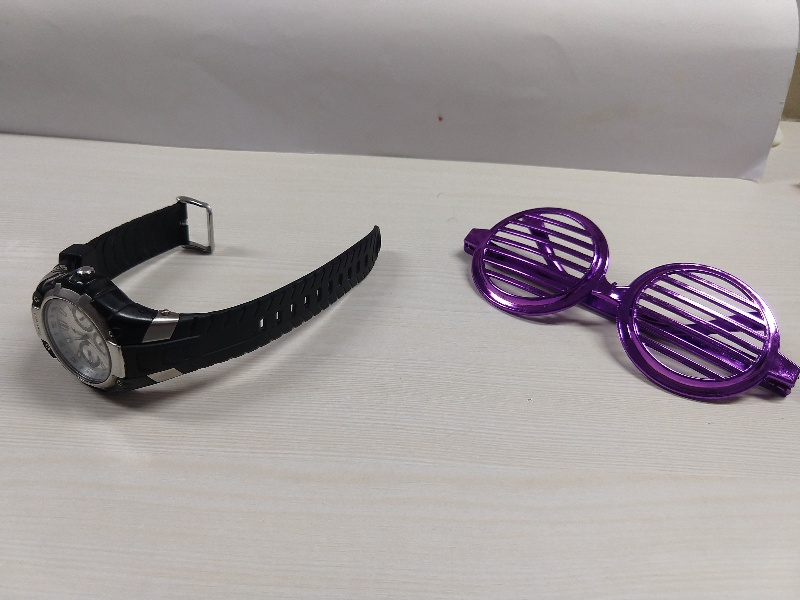shades: (446, 194, 798, 406)
watch: (26, 187, 395, 401)
